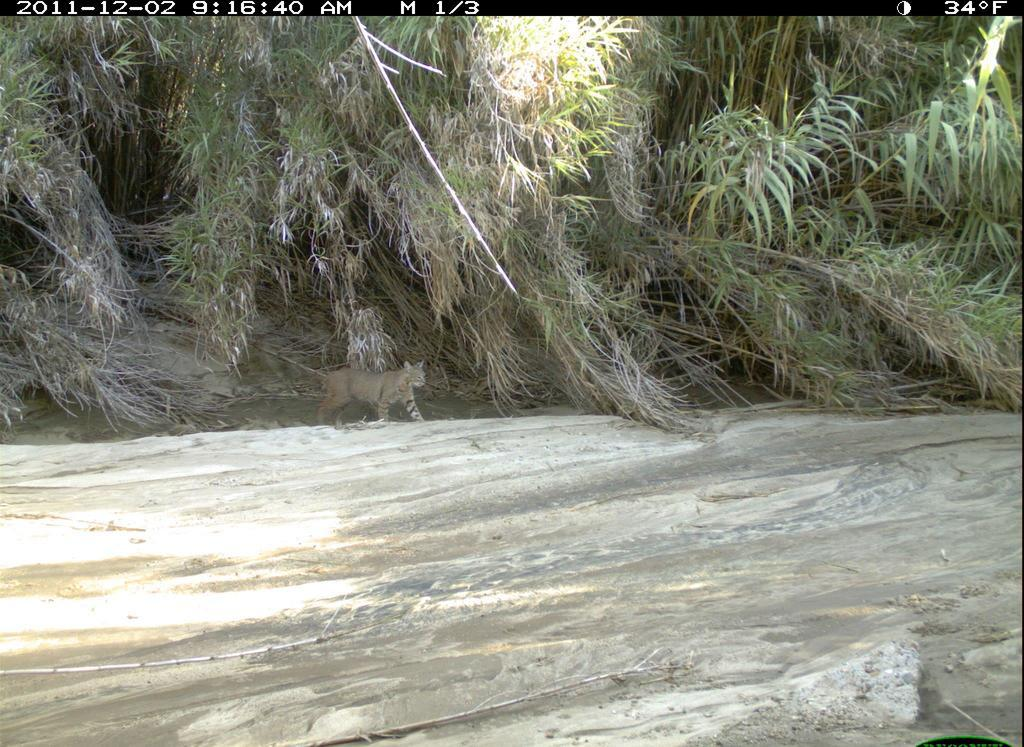bobcat: (297, 353, 441, 438)
